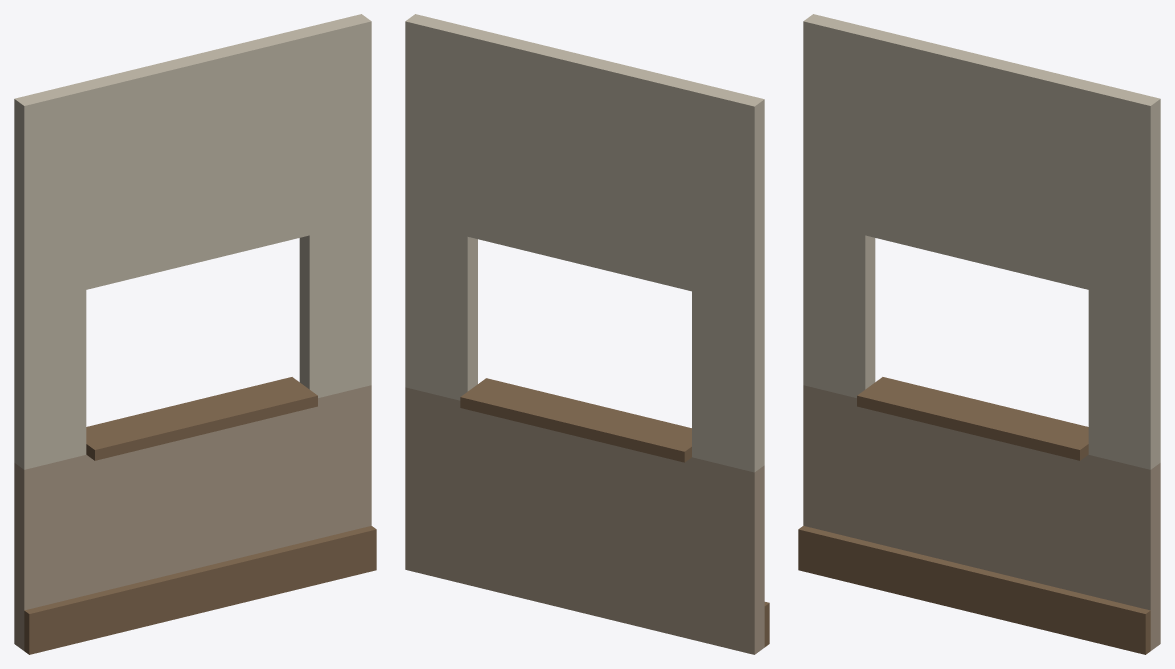
File: Mesh_WallBaseboard2Colors_A3.fbx
3 views of the same model, side by side, from view 1: azimuth 30°, elevation 25°; view 2: azimuth 150°, elevation 25°; view 3: azimuth 330°, elevation 25° (orthographic).
Visible parts, largest first — view 1: Mesh_WallBaseboard2Colors_A3; view 2: Mesh_WallBaseboard2Colors_A3; view 3: Mesh_WallBaseboard2Colors_A3.
Boxes of the visible parts, x1,y1,x2,y2 form: Mesh_WallBaseboard2Colors_A3: (14,14,376,654); Mesh_WallBaseboard2Colors_A3: (405,14,769,654); Mesh_WallBaseboard2Colors_A3: (798,14,1160,654).
Size of the model in its own units: 2 by 3 by 0.2574.
